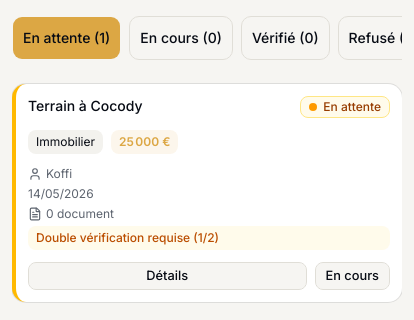
Test: AdminOpportunityKanban › switches the mobile chip filter and renders the mobile empty state
Click the button "Vérifié (0)" at (285, 38), box [241, 16, 330, 60]
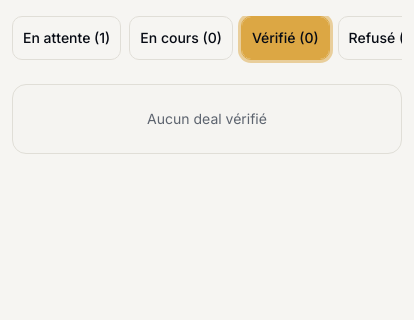
expect the text "Aucun deal vérifié" is shown: met, box [12, 84, 402, 154]
